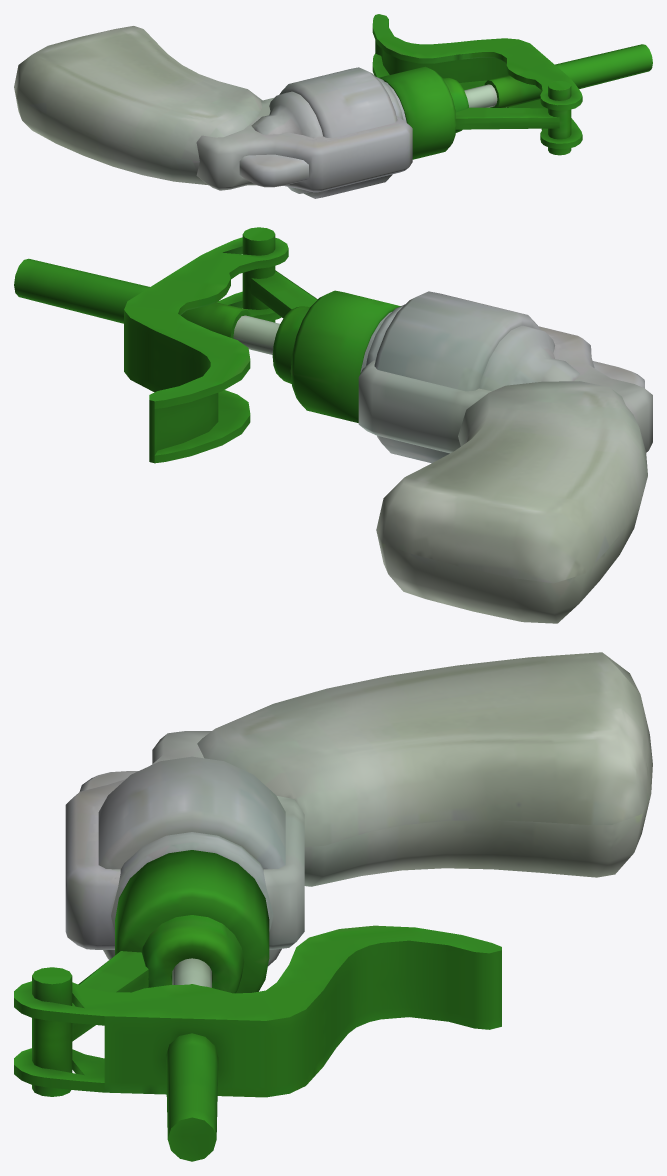
File: ref_gtwatergun.glb
3 views of the same model, one above another, from view 1: azimuth 30°, elevation 25°; view 2: azimuth 150°, elevation 25°; view 3: azimuth 270°, elevation 25° (orthographic). The views are drawn at different scales.
Parts seen in each view (by area): view 1: ref_gtwatergun_part1, ref_gtwatergun_part0, ref_gtwatergun_part2; view 2: ref_gtwatergun_part1, ref_gtwatergun_part0, ref_gtwatergun_part2; view 3: ref_gtwatergun_part1, ref_gtwatergun_part0, ref_gtwatergun_part2.
Part boxes in pixels (box(x1,y1,x2,y2)): ref_gtwatergun_part1: box(14, 26, 412, 198); ref_gtwatergun_part0: box(372, 14, 652, 159); ref_gtwatergun_part2: box(14, 75, 412, 198); ref_gtwatergun_part1: box(358, 291, 652, 623); ref_gtwatergun_part0: box(14, 227, 400, 463); ref_gtwatergun_part2: box(358, 292, 652, 623); ref_gtwatergun_part1: box(65, 652, 652, 966); ref_gtwatergun_part0: box(14, 850, 501, 1161); ref_gtwatergun_part2: box(65, 679, 650, 965).
Bounding box in the file's own units: 1 × 0.2016 × 0.6195.
4 materials, 3 textured.
